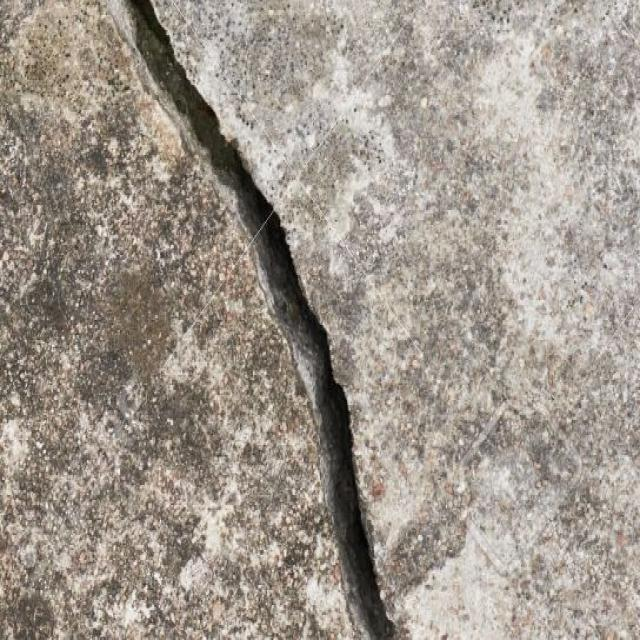Diagonal: (88, 0, 402, 640)
